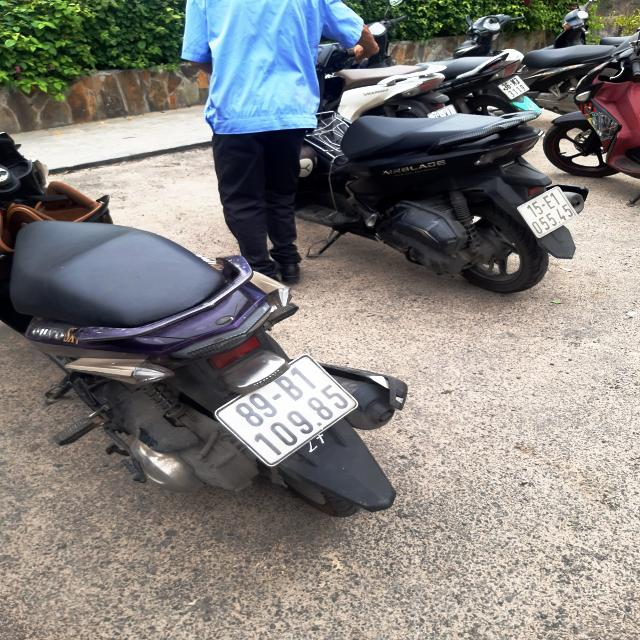license_plate: (208, 352, 362, 470)
